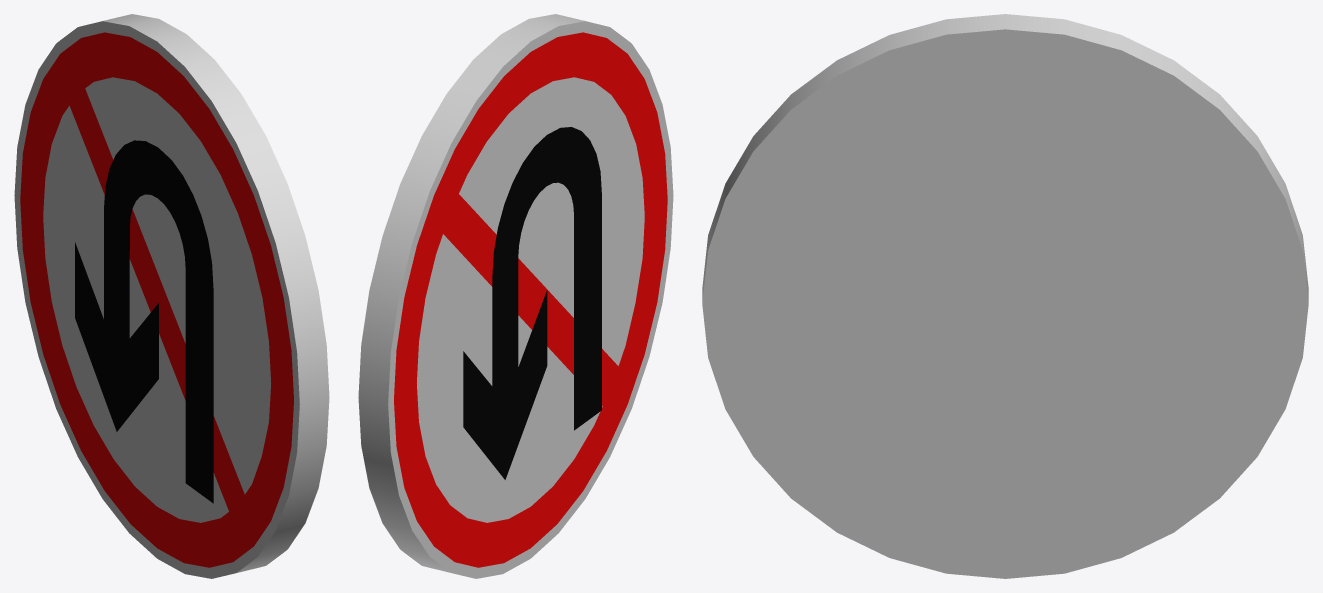
File: No_U_Turn.fbx
The picture shows the model from 3 angles, left to right: view 1: azimuth 30°, elevation 25°; view 2: azimuth 150°, elevation 25°; view 3: azimuth 270°, elevation 25°; orthographic projection. The views are drawn at different scales.
Parts seen in each view (by area): view 1: No_U_Turn; view 2: No_U_Turn; view 3: No_U_Turn.
Boxes of the visible parts, box(x1,y1,x2,y2) form: No_U_Turn: box(14, 14, 329, 578); No_U_Turn: box(358, 14, 673, 578); No_U_Turn: box(702, 14, 1308, 578).
Bounding box in the file's own units: 0.075 × 1 × 1.
